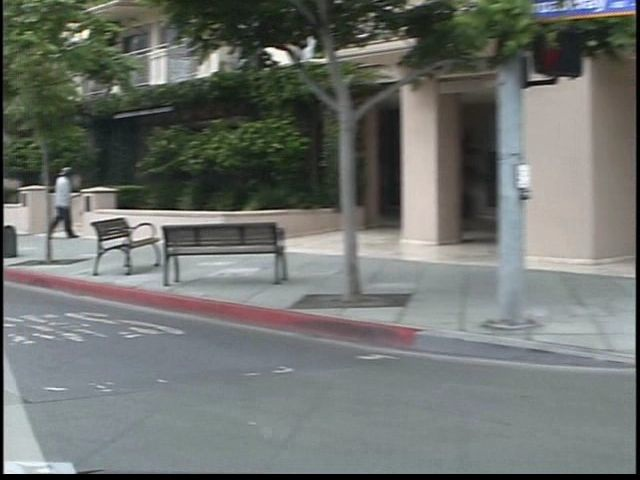person: (33, 159, 73, 249)
